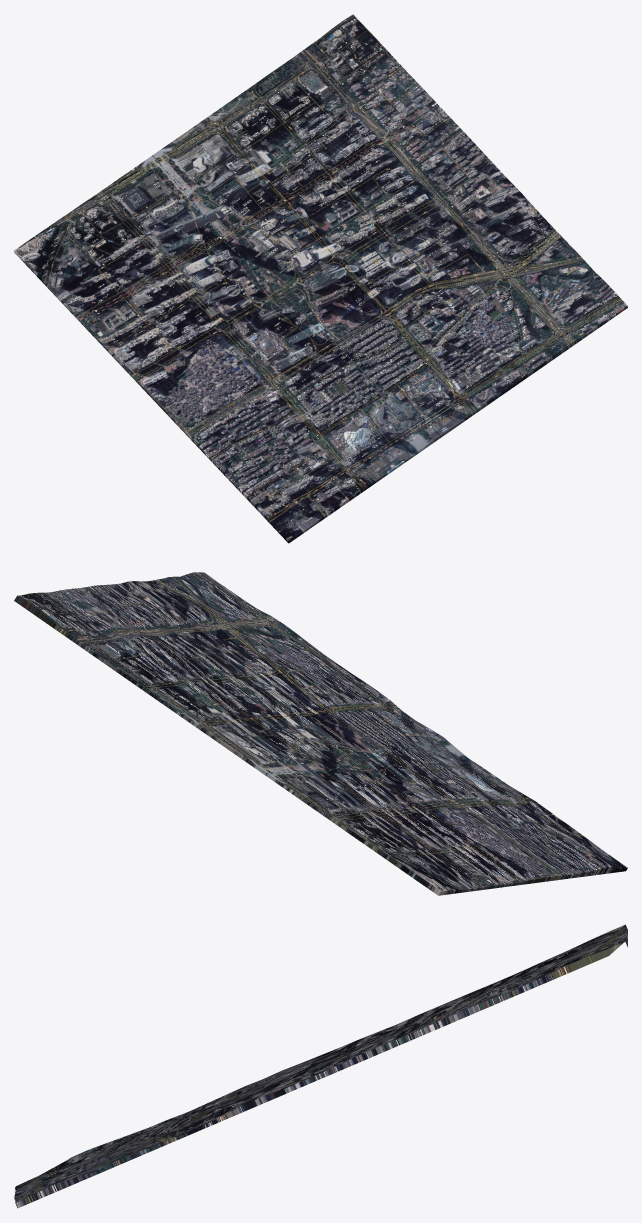
The picture shows the model from 3 angles, top to bottom: view 1: azimuth 30°, elevation 25°; view 2: azimuth 150°, elevation 25°; view 3: azimuth 270°, elevation 25°; orthographic projection. The views are drawn at different scales.
Visible parts, largest first — view 1: 2_2_5; view 2: 2_2_5; view 3: 2_2_5.
Part boxes in pixels (x1,y1,x2,y2): 2_2_5: (14, 14, 627, 543); 2_2_5: (14, 572, 627, 895); 2_2_5: (14, 924, 627, 1208).
Bounding box in the file's own units: 2453 × 1790 × 2251.
Materials: 1 (1 with a texture image).
